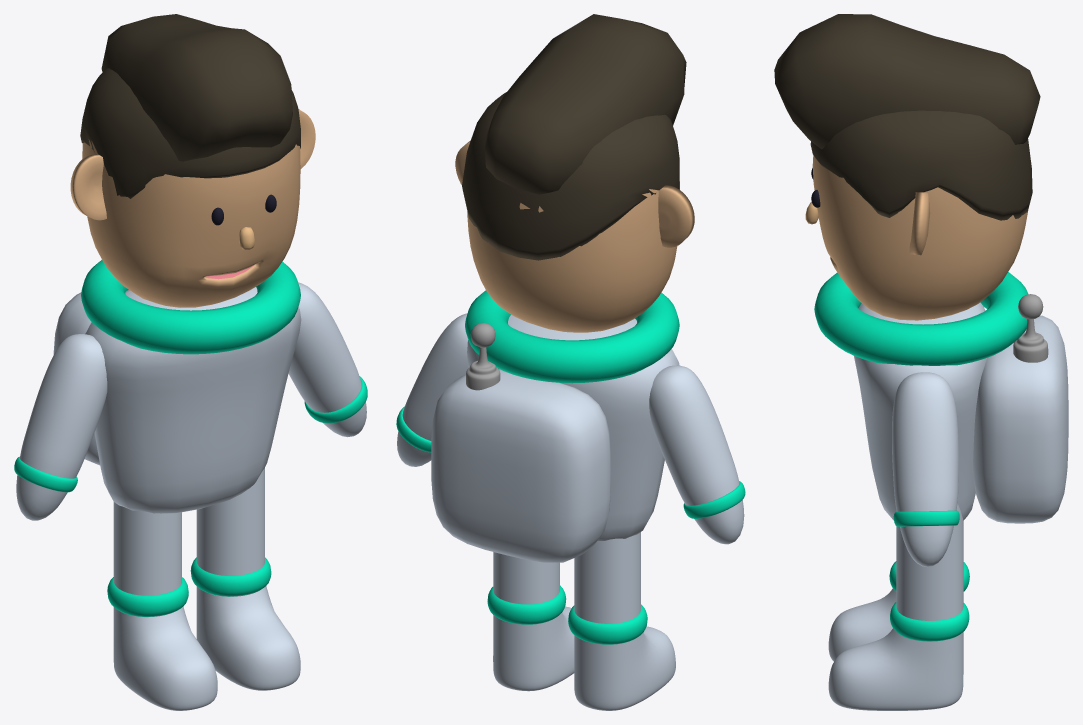
File: riso.glb
3 renders of one model, left to right at view 1: azimuth 30°, elevation 25°; view 2: azimuth 150°, elevation 25°; view 3: azimuth 270°, elevation 25°, orthographic. The views are drawn at different scales.
Parts seen in each view (by area): view 1: Cube.113, hlava.003, Cube.100, Cube.111, Cube.112, Torus.006, vlasy.003, Cube.105, Cube.108, Cylinder.019, Cube.109, Cube.110 (+3 smaller); view 2: Cube.104, Cube.100, vlasy.003, hlava.003, Cube.111, Cube.113, Torus.006, Cube.105, Cube.112, Cube.108, Cylinder.019, Cube.109 (+4 smaller); view 3: Cube.100, hlava.003, vlasy.003, Cube.104, Cube.112, Torus.006, Cube.108, Cube.113, Cube.111, Cube.110, Cylinder.020, Cube.107 (+1 smaller).
Part boxes in pixels (x1,y1,x2,y2): Cube.113: [85, 287, 301, 513]; hlava.003: [82, 139, 300, 307]; Cube.100: [101, 14, 292, 161]; Cube.111: [113, 502, 217, 710]; Cube.112: [196, 468, 300, 690]; Torus.006: [81, 260, 300, 354]; vlasy.003: [80, 68, 300, 198]; Cube.105: [16, 334, 107, 520]; Cube.108: [288, 282, 366, 437]; Cylinder.019: [70, 109, 315, 220]; Cube.109: [107, 577, 188, 616]; Cube.110: [190, 557, 271, 596]; Cube.104: [431, 369, 610, 562]; Cube.100: [484, 14, 686, 194]; vlasy.003: [462, 92, 679, 260]; hlava.003: [467, 181, 679, 332]; Cube.111: [574, 532, 675, 710]; Cube.113: [467, 314, 679, 540]; Torus.006: [465, 290, 679, 383]; Cube.105: [649, 365, 744, 544]; Cube.112: [493, 552, 574, 691]; Cube.108: [397, 313, 468, 466]; Cylinder.019: [455, 140, 694, 247]; Cube.109: [568, 604, 647, 644]; Cube.100: [774, 14, 1040, 149]; hlava.003: [812, 155, 1028, 320]; vlasy.003: [810, 110, 1032, 220]; Cube.104: [973, 315, 1068, 523]; Cube.112: [828, 504, 963, 710]; Torus.006: [814, 272, 1028, 365]; Cube.108: [892, 372, 958, 567]; Cube.113: [854, 302, 986, 520]; Cube.111: [828, 588, 896, 661]; Cube.110: [890, 602, 969, 641]; Cylinder.020: [1013, 294, 1048, 362]; Cube.107: [893, 510, 959, 526].
Size of the model in its own units: 1.34 by 2.43 by 0.9972.
